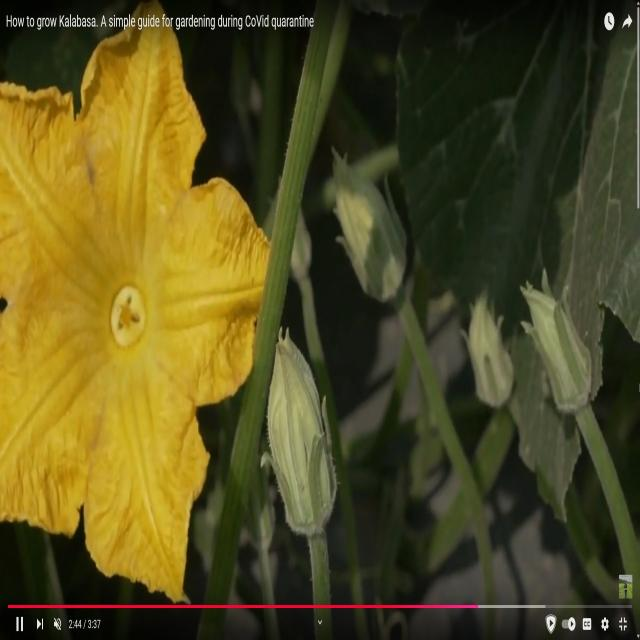flower: (0, 28, 269, 603), (258, 321, 342, 542), (324, 138, 417, 310), (512, 257, 601, 431)
